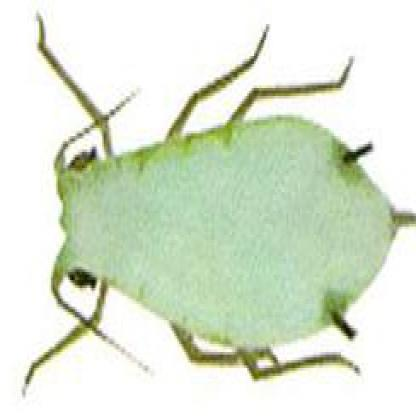aphid: (18, 4, 416, 399)
